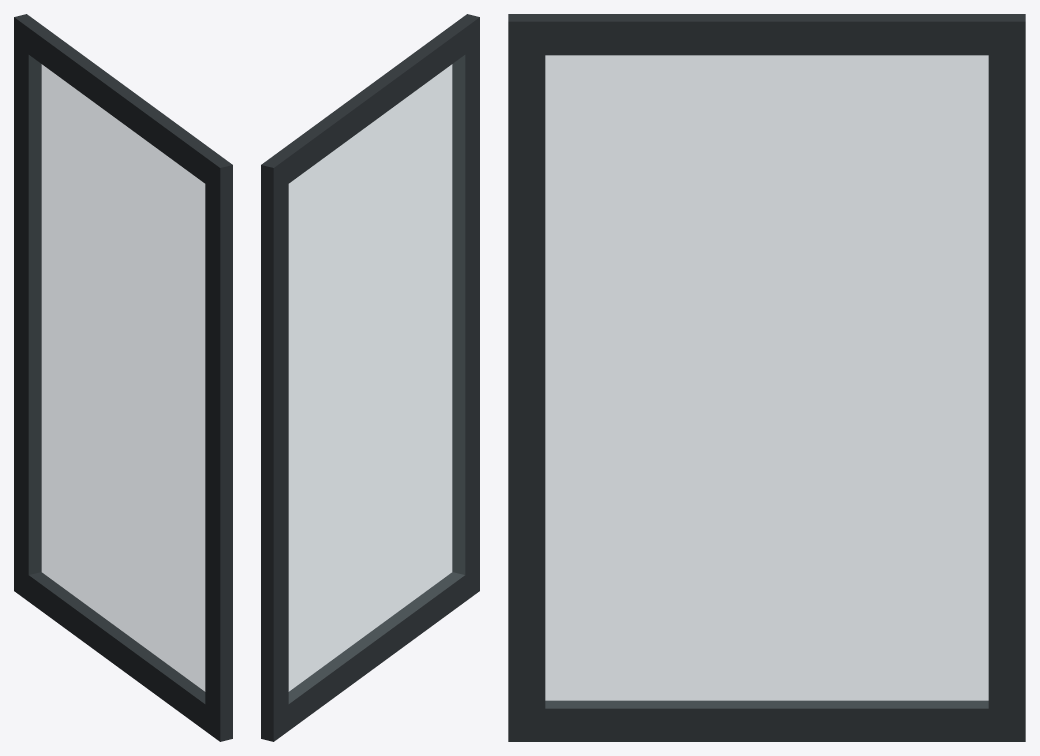
The model's file is skid_steer_door.glb.
The picture shows the model from 3 angles, left to right: view 1: azimuth 30°, elevation 25°; view 2: azimuth 150°, elevation 25°; view 3: azimuth 270°, elevation 25°; orthographic projection. The views are drawn at different scales.
Visible parts, largest first — view 1: body:compound; view 2: body:compound; view 3: body:compound.
Part boxes in pixels (<box>): body:compound: <box>14,14,232,741</box>; body:compound: <box>261,14,479,741</box>; body:compound: <box>508,14,1025,741</box>.
Bounding box in the file's own units: 0.0312 × 1.34 × 0.875.
